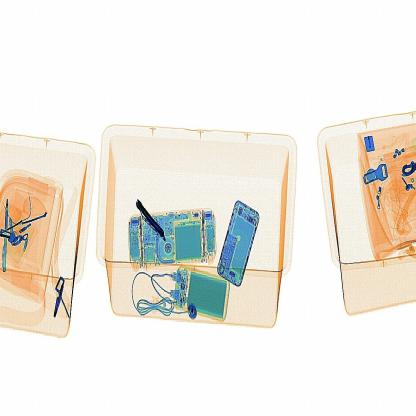knife: (135, 194, 167, 243)
